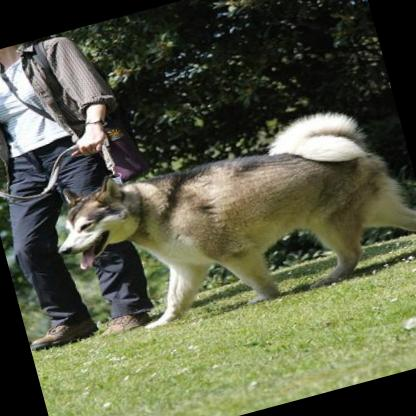malamute: (36, 90, 416, 350)
